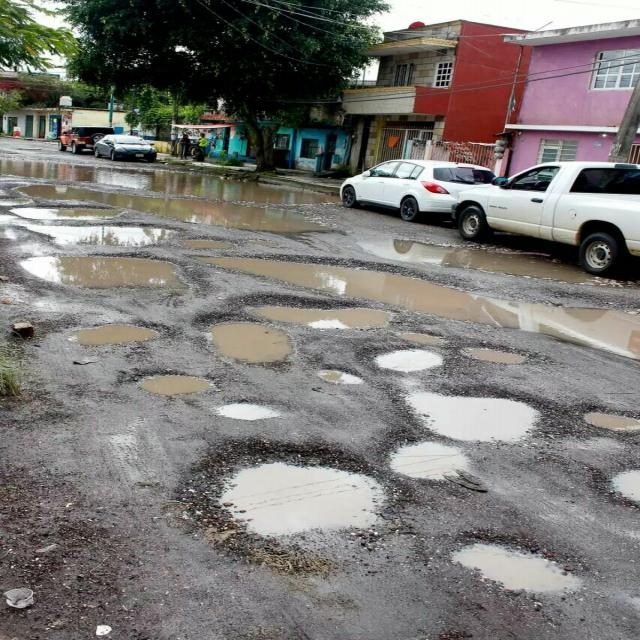Pothole: (90, 370, 640, 630), (4, 186, 640, 372)
